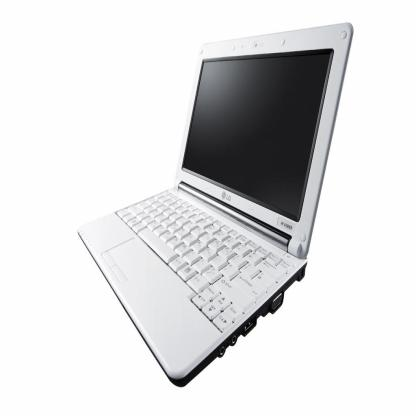board: (78, 19, 354, 388)
